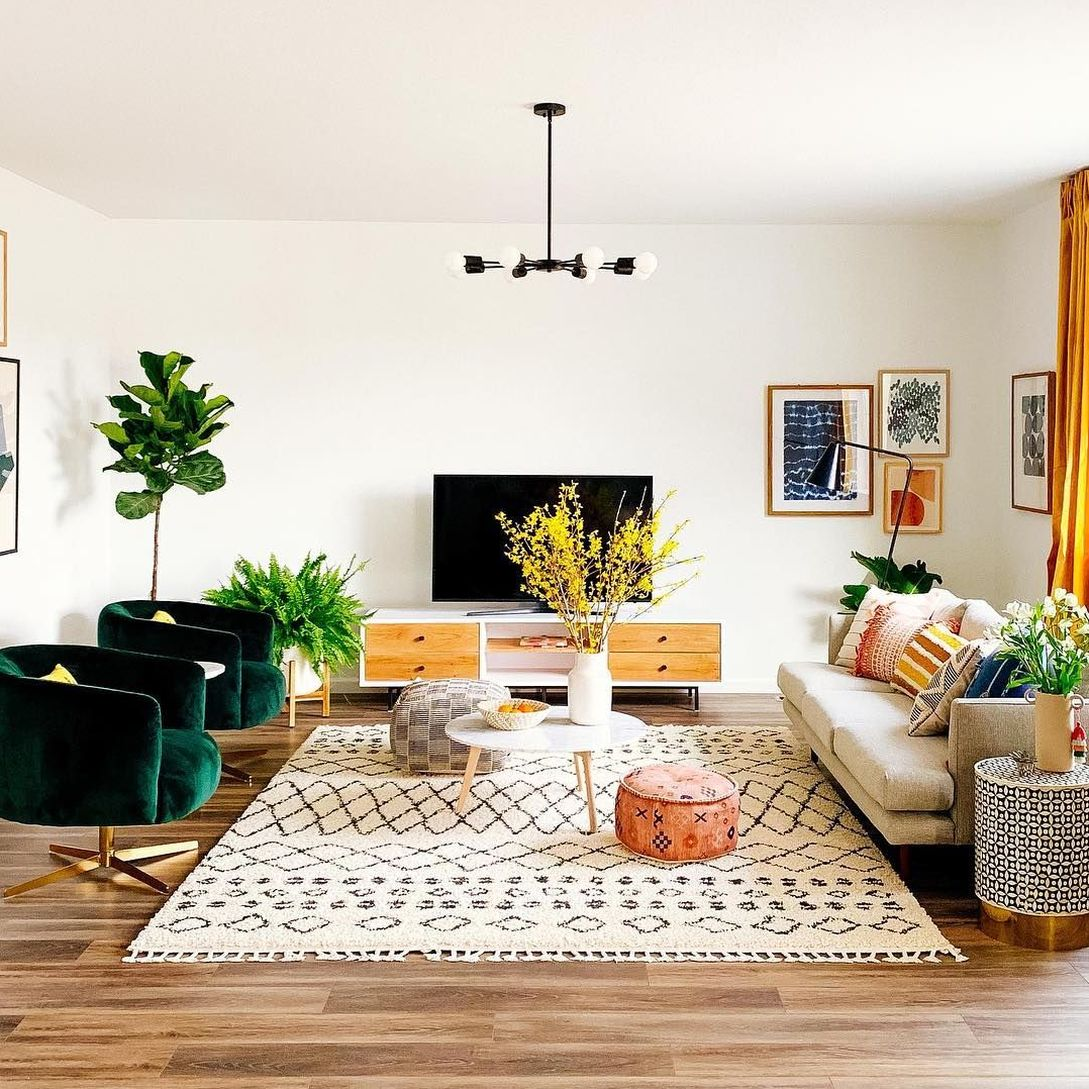hijau: (1, 642, 216, 840), (102, 599, 274, 671)
hitam: (431, 471, 533, 604)
putih: (446, 703, 649, 755), (565, 651, 617, 729)
